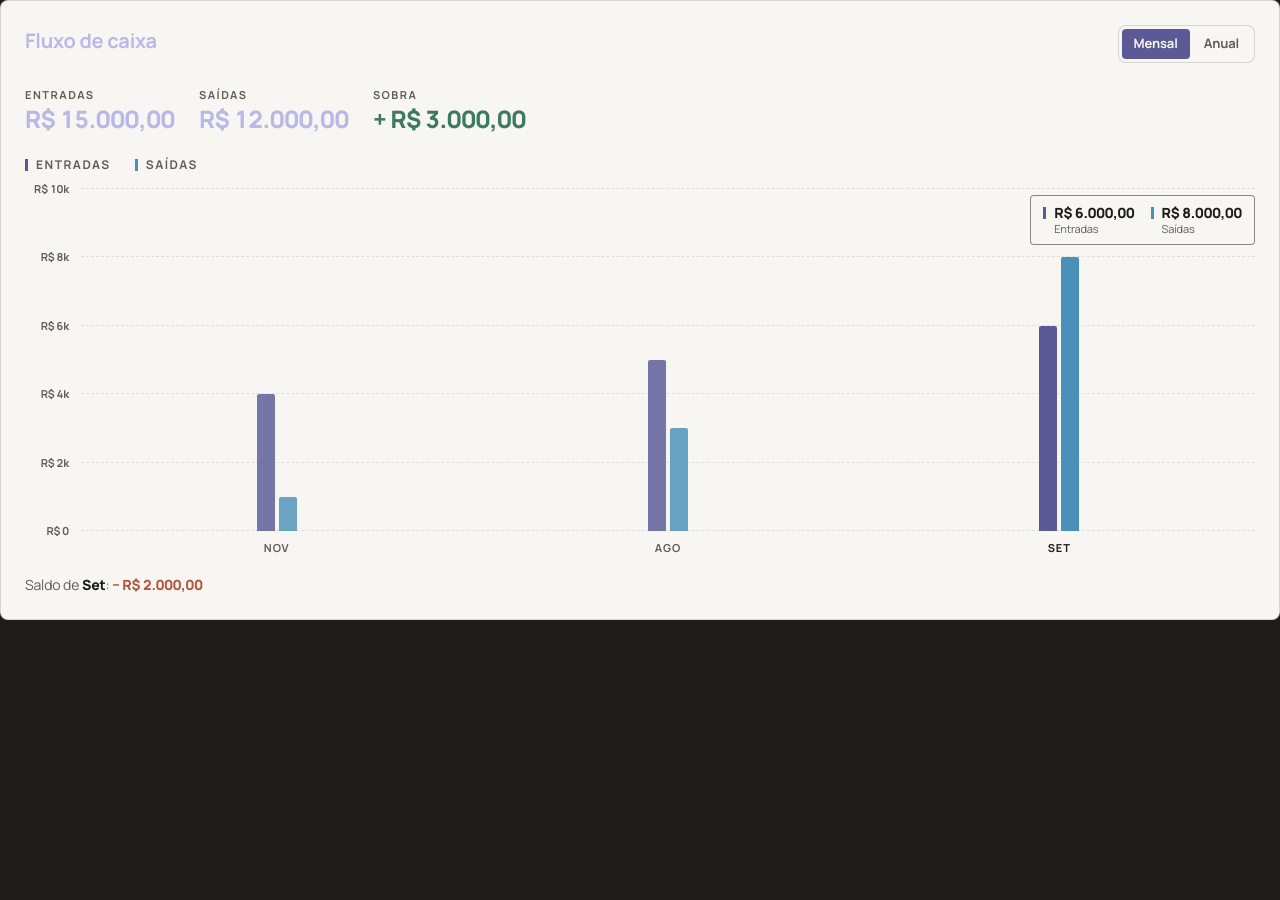
Scenario: CashFlowCard › switches to the yearly view and selects the latest year
The width and height of the screenshot is (1280, 900).
What coordinates should you click on to do the following:
click the radio button labelled "Anual"
I would click on:
 (1221, 44)
Its box is [1192, 29, 1251, 59].
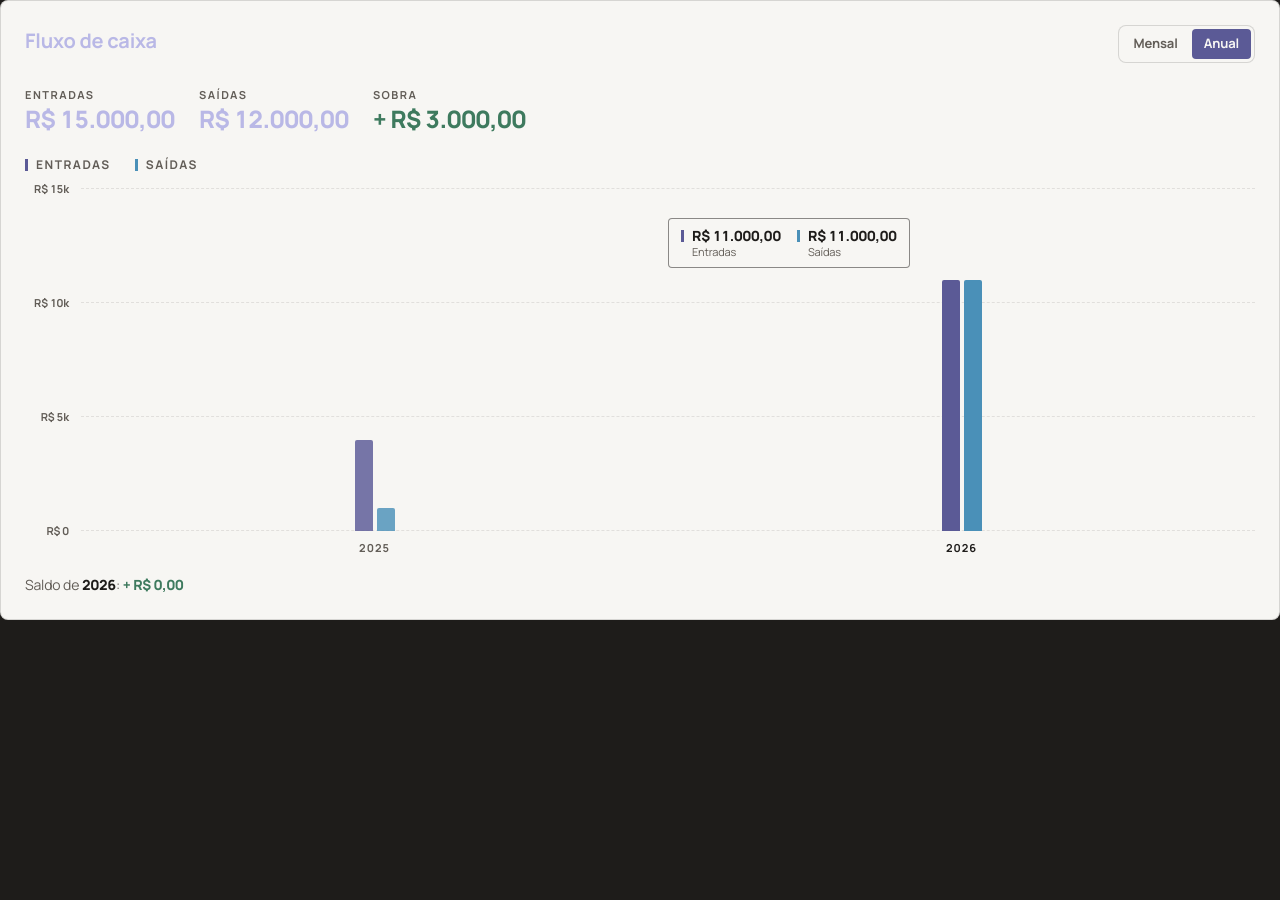
Expected: the option "R$ 11.000,00 Entradas R$ 11.000,00 Saídas 2026" is shown, [668, 218, 982, 531]
